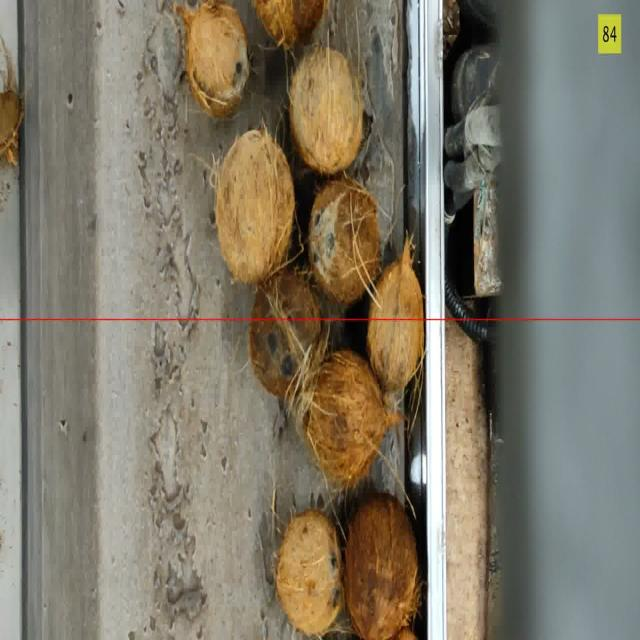Coconut-Conveyor-Belt: (305, 350, 399, 488), (215, 129, 295, 283), (345, 494, 419, 639), (249, 270, 322, 399), (290, 47, 363, 174), (308, 178, 380, 305), (367, 239, 424, 391), (276, 510, 342, 636), (184, 0, 250, 119), (253, 0, 327, 49), (0, 37, 23, 166), (0, 91, 23, 166), (393, 629, 417, 639)
